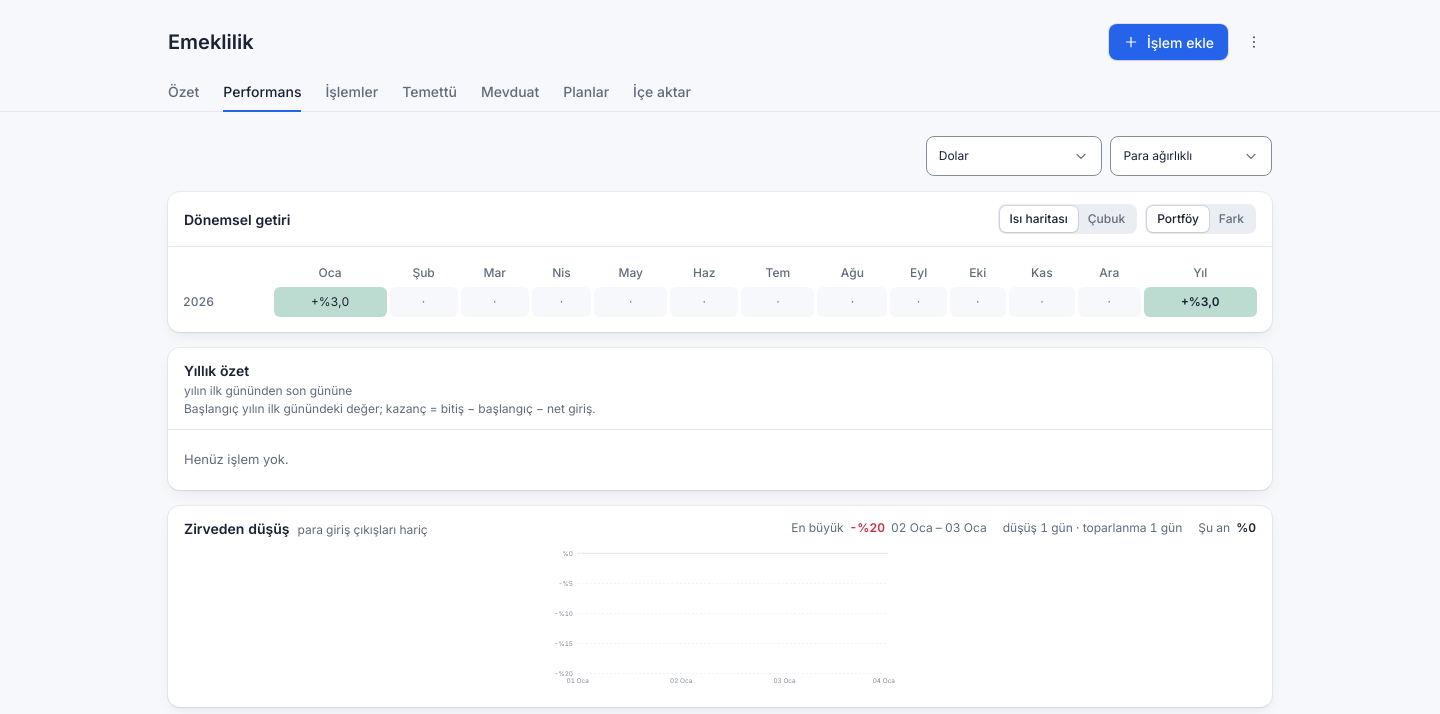
Test: switches the card between the heatmap and the bars, opening on the heatmap
Click the radio button labelled "Çubuk" at (1106, 219), box [1078,206,1135,232]
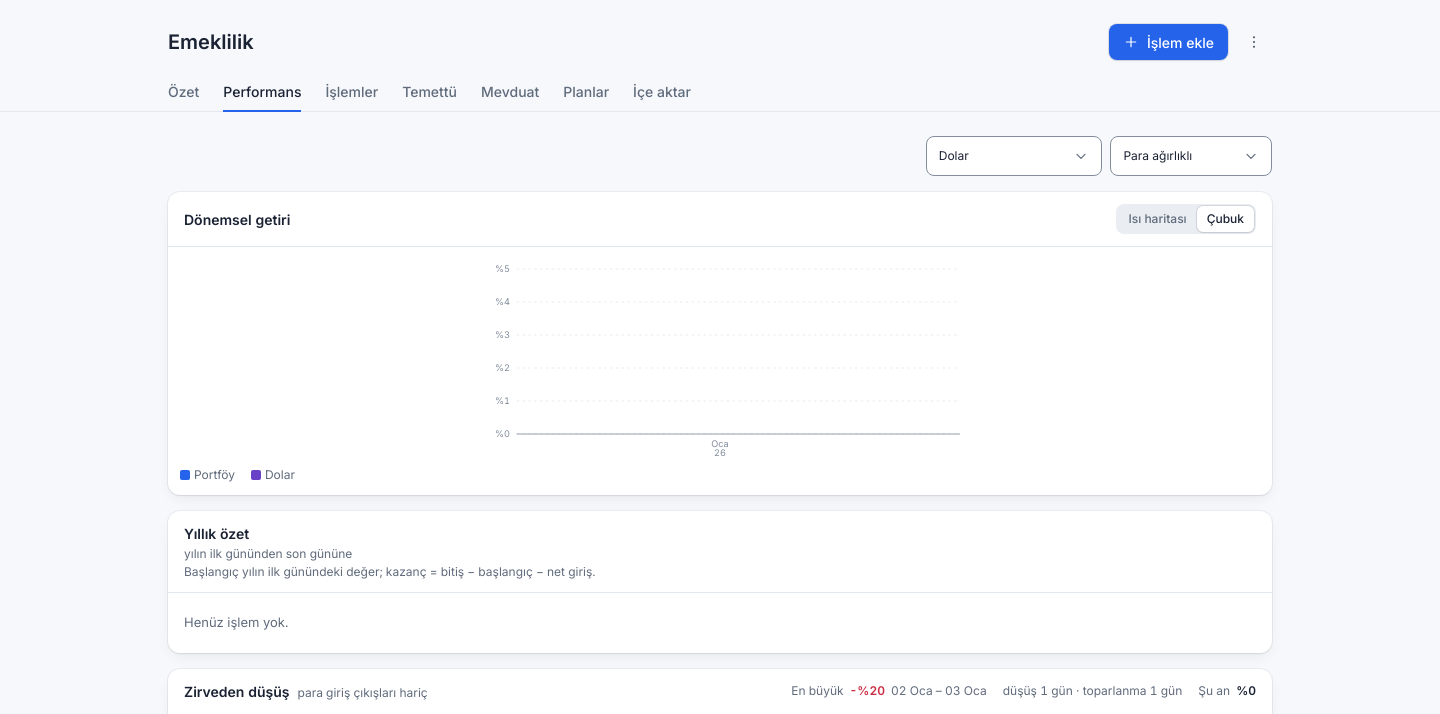
Check: the icon named "aylık getiri: Portföy, Dolar" is shown, box [180,259,1260,459]
Check: the table is gone
Check: the element "Gösterim" is gone
Click the radio button labelled "Isı haritası" at (1158, 219), box [1118,206,1197,232]
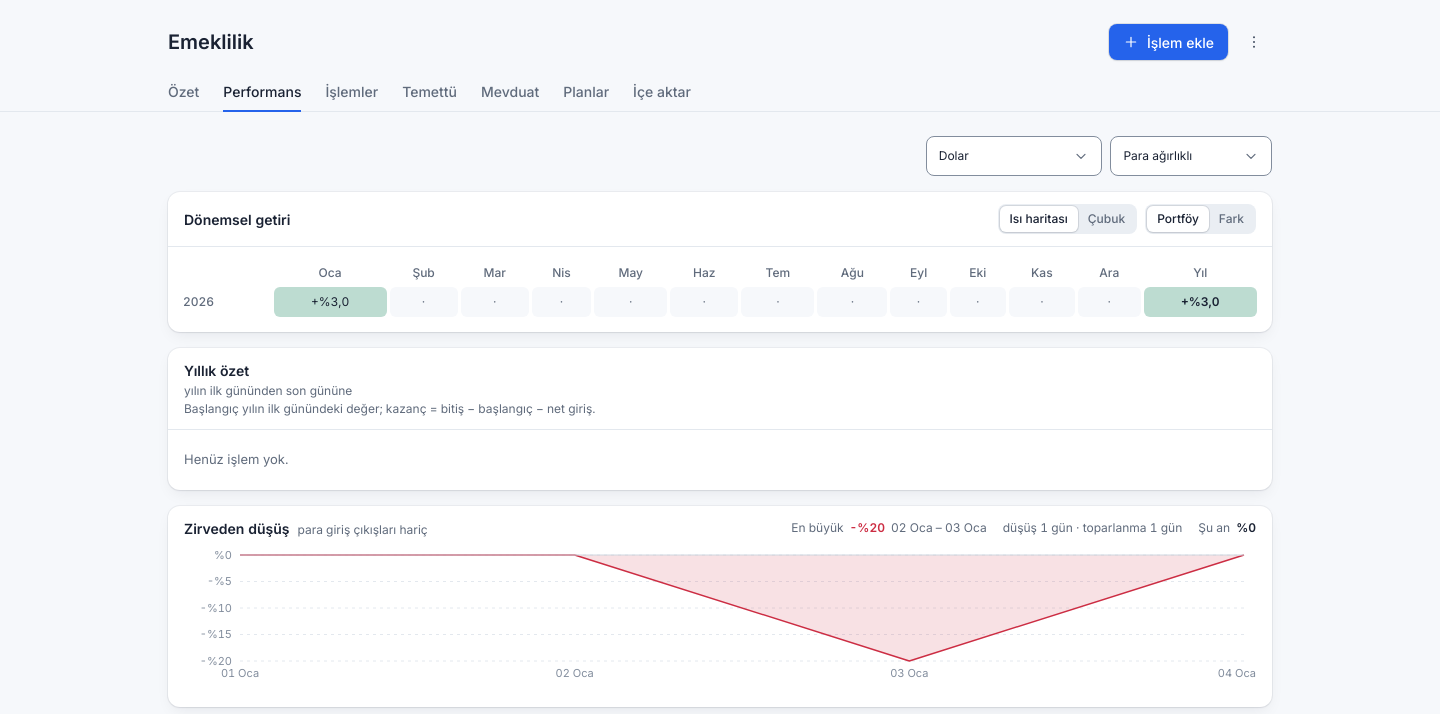
Check: the 1st cell "+%3,0" is shown, box [274,287,387,317]
